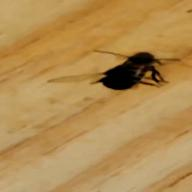Bee: (72, 44, 182, 94)
